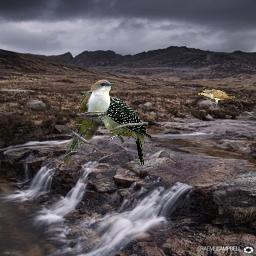Cuckoo: (60, 78, 114, 166), (197, 89, 236, 107)
Woodpecker: (77, 87, 152, 167)
